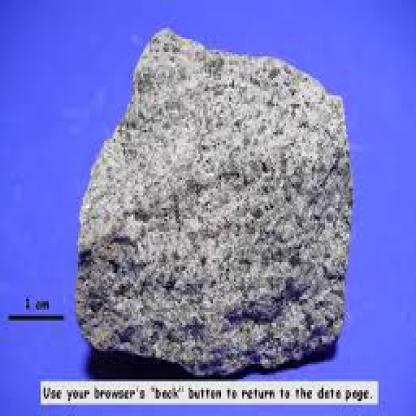Igneous_Diorite: (75, 21, 351, 370)
